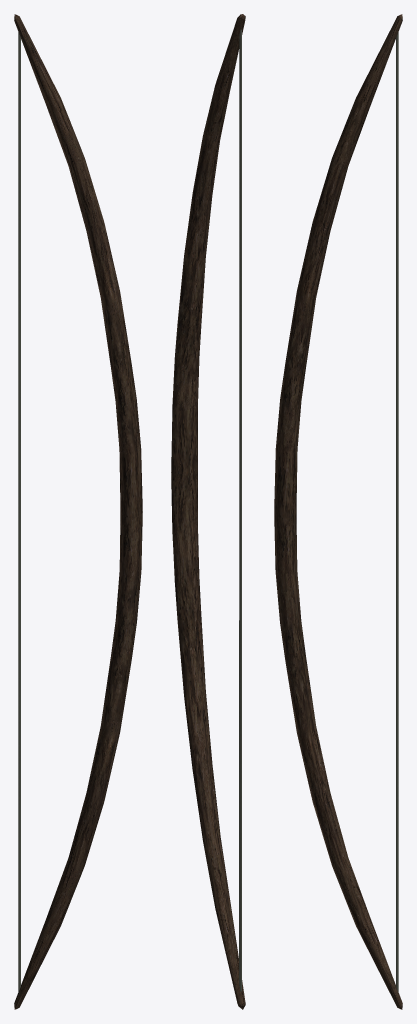
Rendered from Bow_v01.obj.
3 views of the same model, side by side, from view 1: azimuth 90°, elevation 25°; view 2: azimuth 210°, elevation 25°; view 3: azimuth 270°, elevation 25° (orthographic).
Parts seen in each view (by area): view 1: bow_v01; view 2: bow_v01; view 3: bow_v01.
Boxes of the visible parts, x1=… form: bow_v01: x1=14, y1=14, x2=142, y2=1009; bow_v01: x1=171, y1=14, x2=245, y2=1009; bow_v01: x1=274, y1=14, x2=402, y2=1009.
Bounding box in the file's own units: 0.9774 × 34.5 × 4.04.
1 material, 1 textured.
